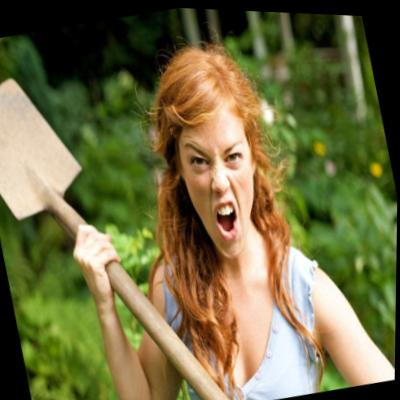angry: (160, 64, 276, 269)
